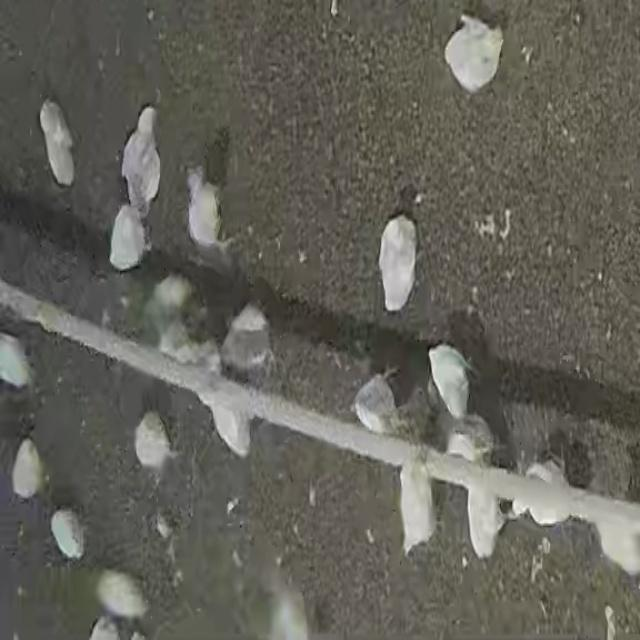chicken: (370, 211, 425, 319), (441, 10, 507, 96), (183, 165, 235, 266), (222, 300, 286, 375), (194, 387, 255, 462), (120, 106, 162, 213), (515, 456, 577, 528), (426, 342, 478, 420), (399, 453, 437, 555), (124, 409, 184, 471), (436, 407, 500, 464), (38, 98, 76, 186), (352, 372, 399, 438), (462, 480, 502, 556), (107, 203, 147, 273), (96, 567, 148, 619), (10, 435, 44, 501), (48, 506, 86, 561)
